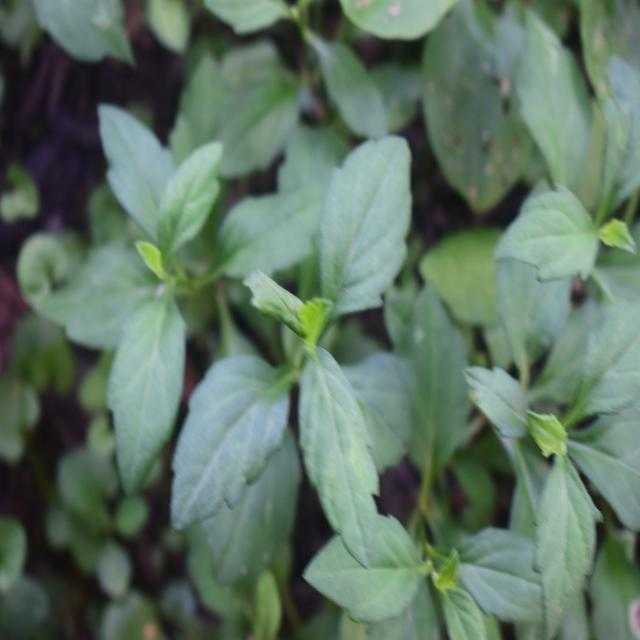Indian aster: (158, 120, 424, 558), (48, 87, 226, 478), (464, 240, 634, 602)
